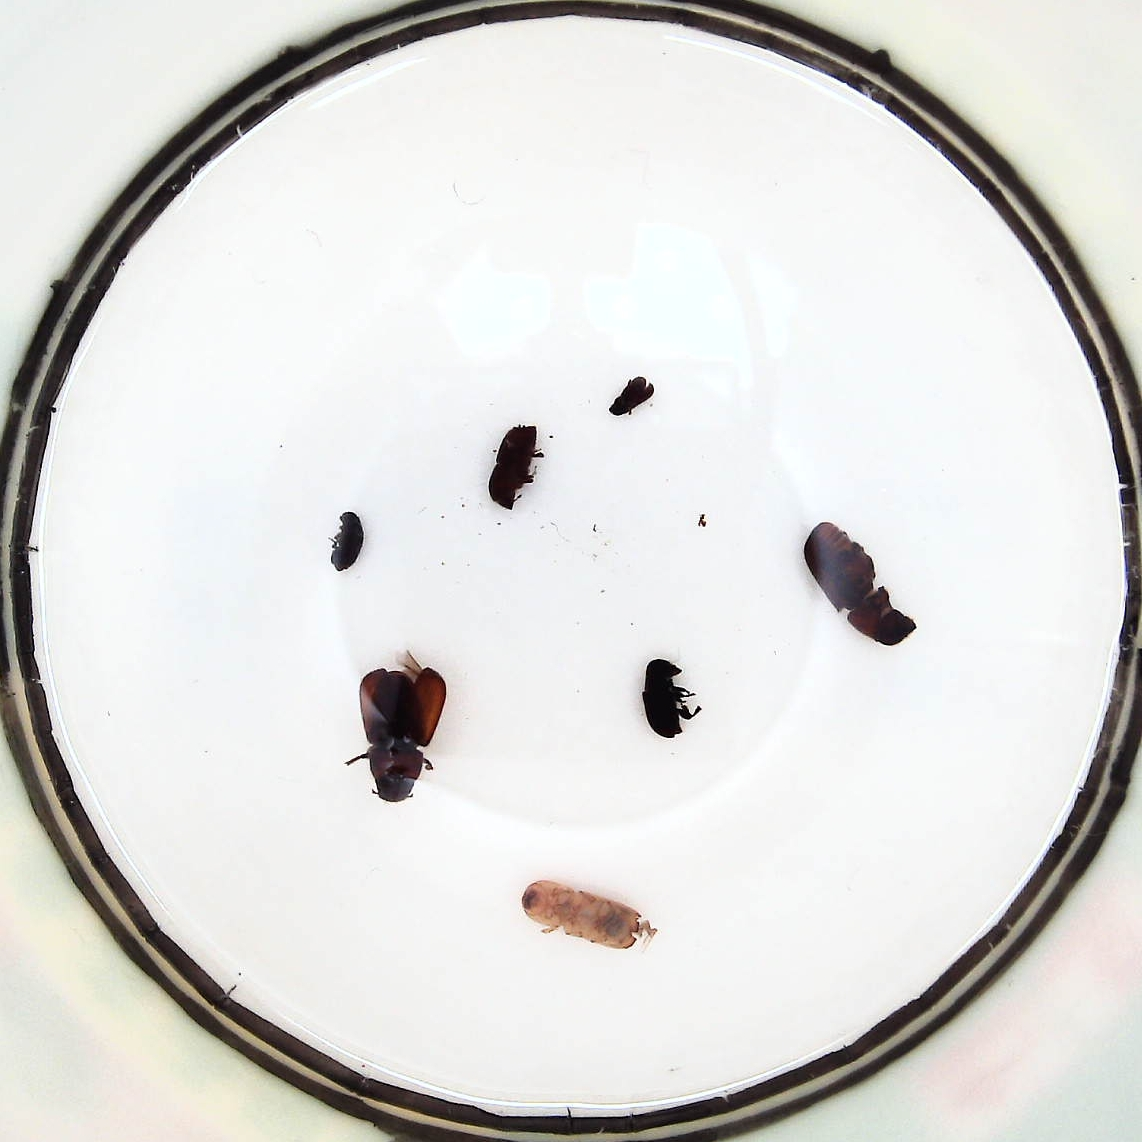Boerner: (522, 880, 642, 949)
Leconte: (804, 523, 917, 647), (359, 667, 447, 802)
acuminatus: (330, 510, 364, 571)
armandi: (642, 659, 685, 738)
coleoptera: (610, 376, 653, 415)
linnaeus: (490, 425, 536, 510)
